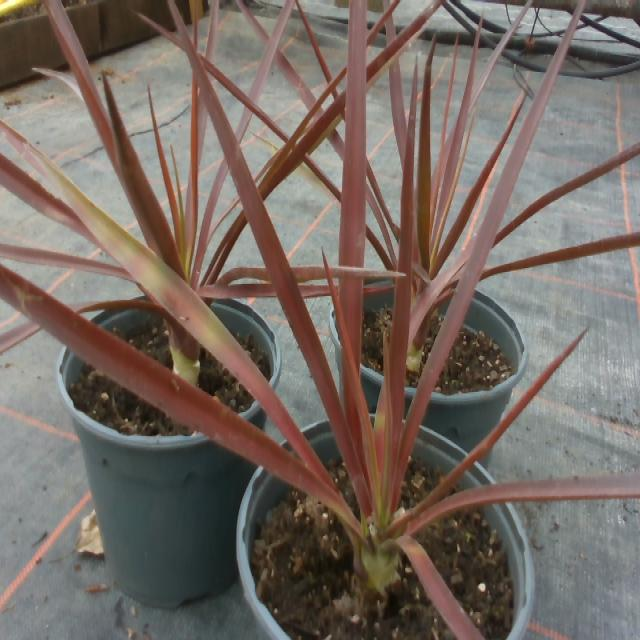Yucca-aloifolia: (172, 11, 367, 505), (25, 151, 319, 472), (398, 0, 585, 456), (0, 267, 345, 513), (410, 329, 586, 515), (381, 63, 416, 511), (105, 79, 183, 275), (494, 143, 639, 244), (434, 101, 522, 267), (406, 473, 639, 533), (258, 65, 345, 197), (44, 0, 114, 161), (396, 536, 482, 639), (0, 156, 94, 239), (339, 0, 366, 265), (481, 232, 639, 277), (438, 39, 477, 215), (470, 0, 532, 107), (367, 0, 443, 87), (204, 63, 288, 141), (409, 249, 466, 336), (0, 243, 132, 280), (149, 89, 179, 244), (249, 0, 293, 101), (416, 37, 434, 267), (195, 160, 227, 277), (201, 209, 247, 283), (187, 89, 207, 241), (297, 0, 332, 83), (275, 49, 315, 109), (390, 61, 406, 159), (340, 280, 361, 353), (366, 185, 390, 247), (366, 0, 399, 44), (236, 0, 269, 43), (304, 160, 338, 200), (214, 267, 274, 288), (366, 227, 392, 268), (201, 284, 276, 297), (172, 145, 183, 228), (204, 0, 218, 61), (436, 129, 452, 176), (333, 267, 399, 276), (235, 108, 251, 141), (371, 180, 387, 212), (293, 265, 324, 281), (329, 129, 343, 159), (300, 284, 328, 296), (386, 16, 395, 44), (178, 231, 183, 252)
